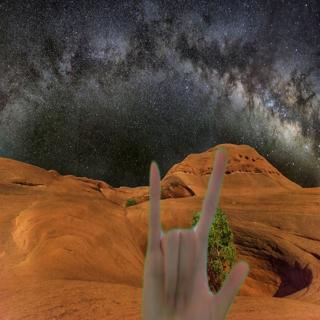ILY: (135, 146, 253, 320)
